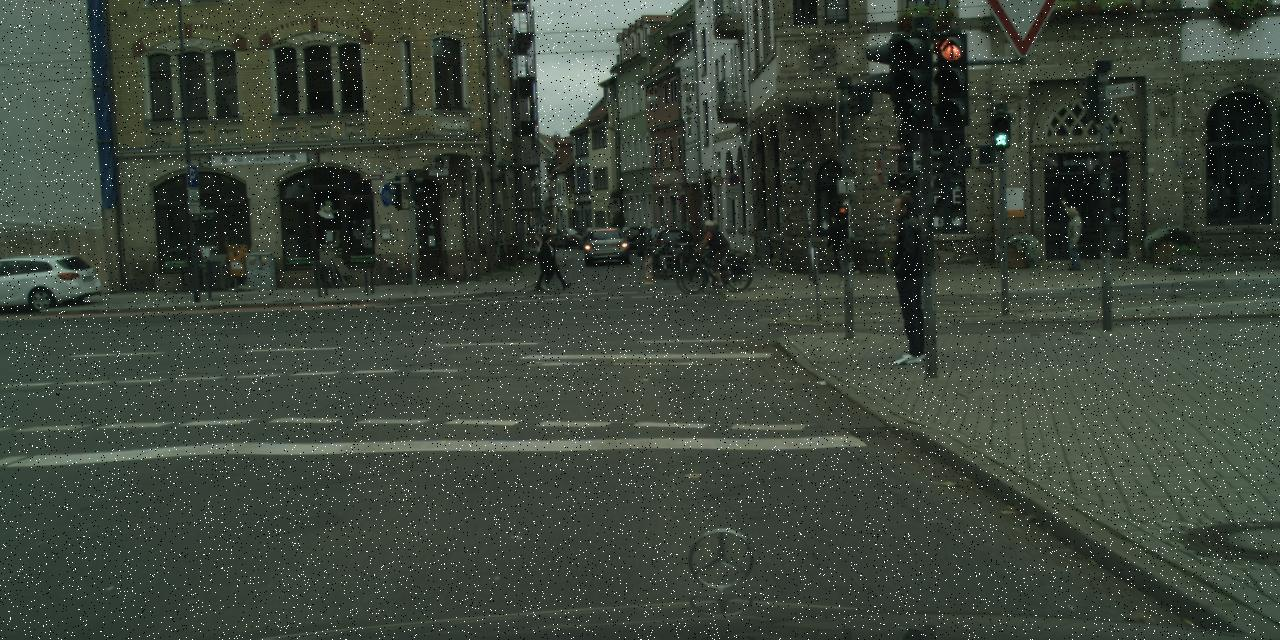ped: (876, 194, 943, 360), (822, 211, 853, 286), (701, 220, 727, 282), (1062, 207, 1086, 269), (540, 226, 564, 286), (705, 220, 728, 278), (533, 233, 555, 290)
